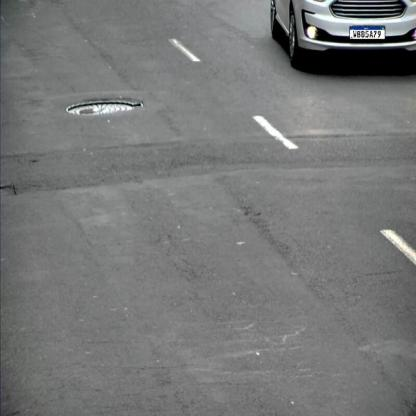PlacaM: (350, 26, 386, 40)
